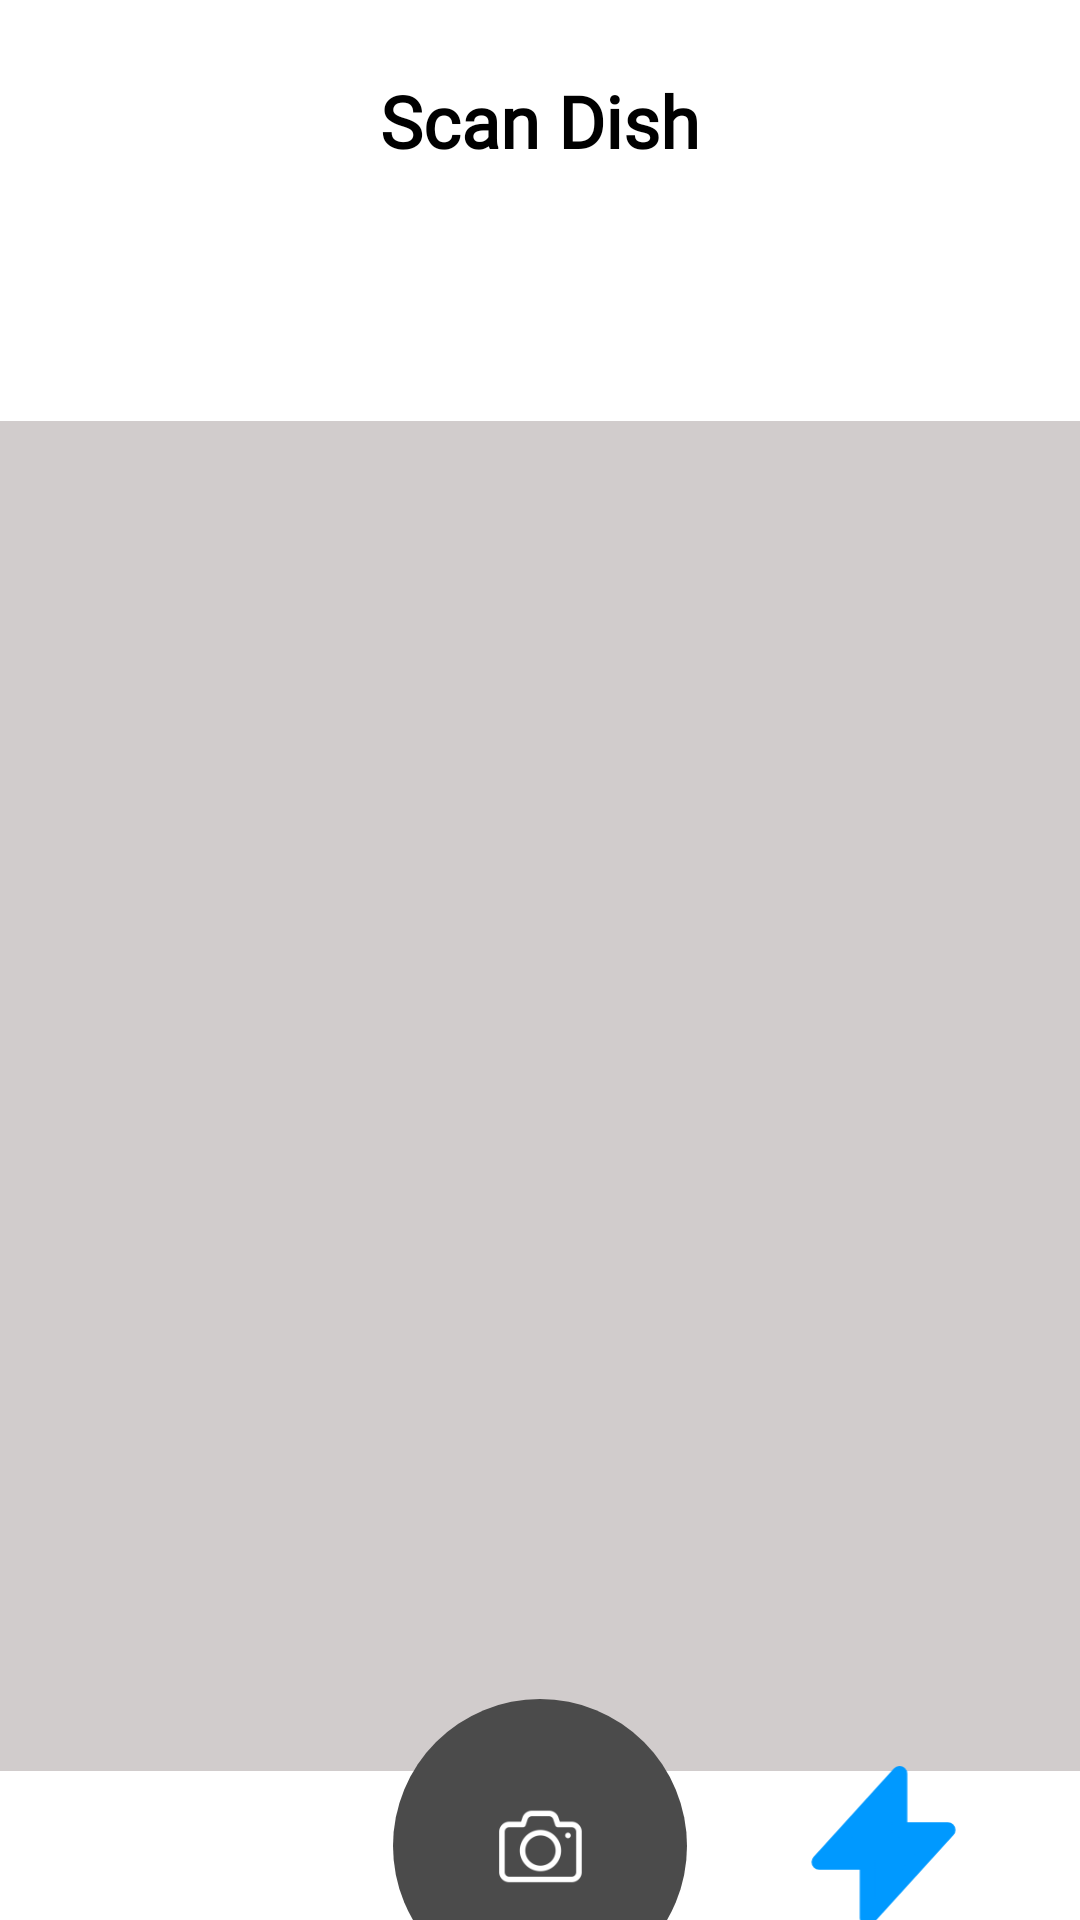

Locate icon controls on the screen. Image size 1080 × 1920, boxes as (x1, y1, x2, y2).
flash on: (810, 1765, 957, 1920)
